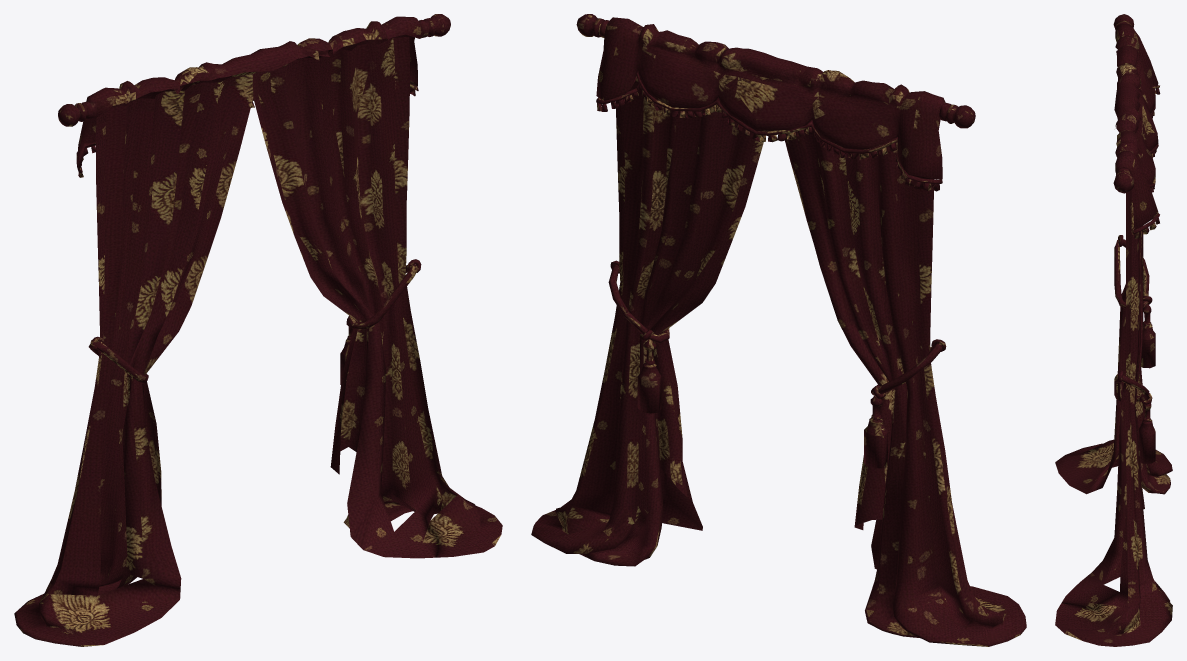
File: CourtineV3_1.fbx
3 views of the same model, side by side, from view 1: azimuth 30°, elevation 25°; view 2: azimuth 150°, elevation 25°; view 3: azimuth 270°, elevation 25° (orthographic). The views are drawn at different scales.
Visible parts, largest first — view 1: meshes[0].001; view 2: meshes[0].001; view 3: meshes[0].001.
Boxes of the visible parts, x1,y1,x2,y2 form: meshes[0].001: (14, 14, 502, 646); meshes[0].001: (531, 14, 1026, 646); meshes[0].001: (1055, 14, 1172, 646).
Bounding box in the file's own units: 0.6723 × 2.74 × 2.87.
1 material, 1 textured.
